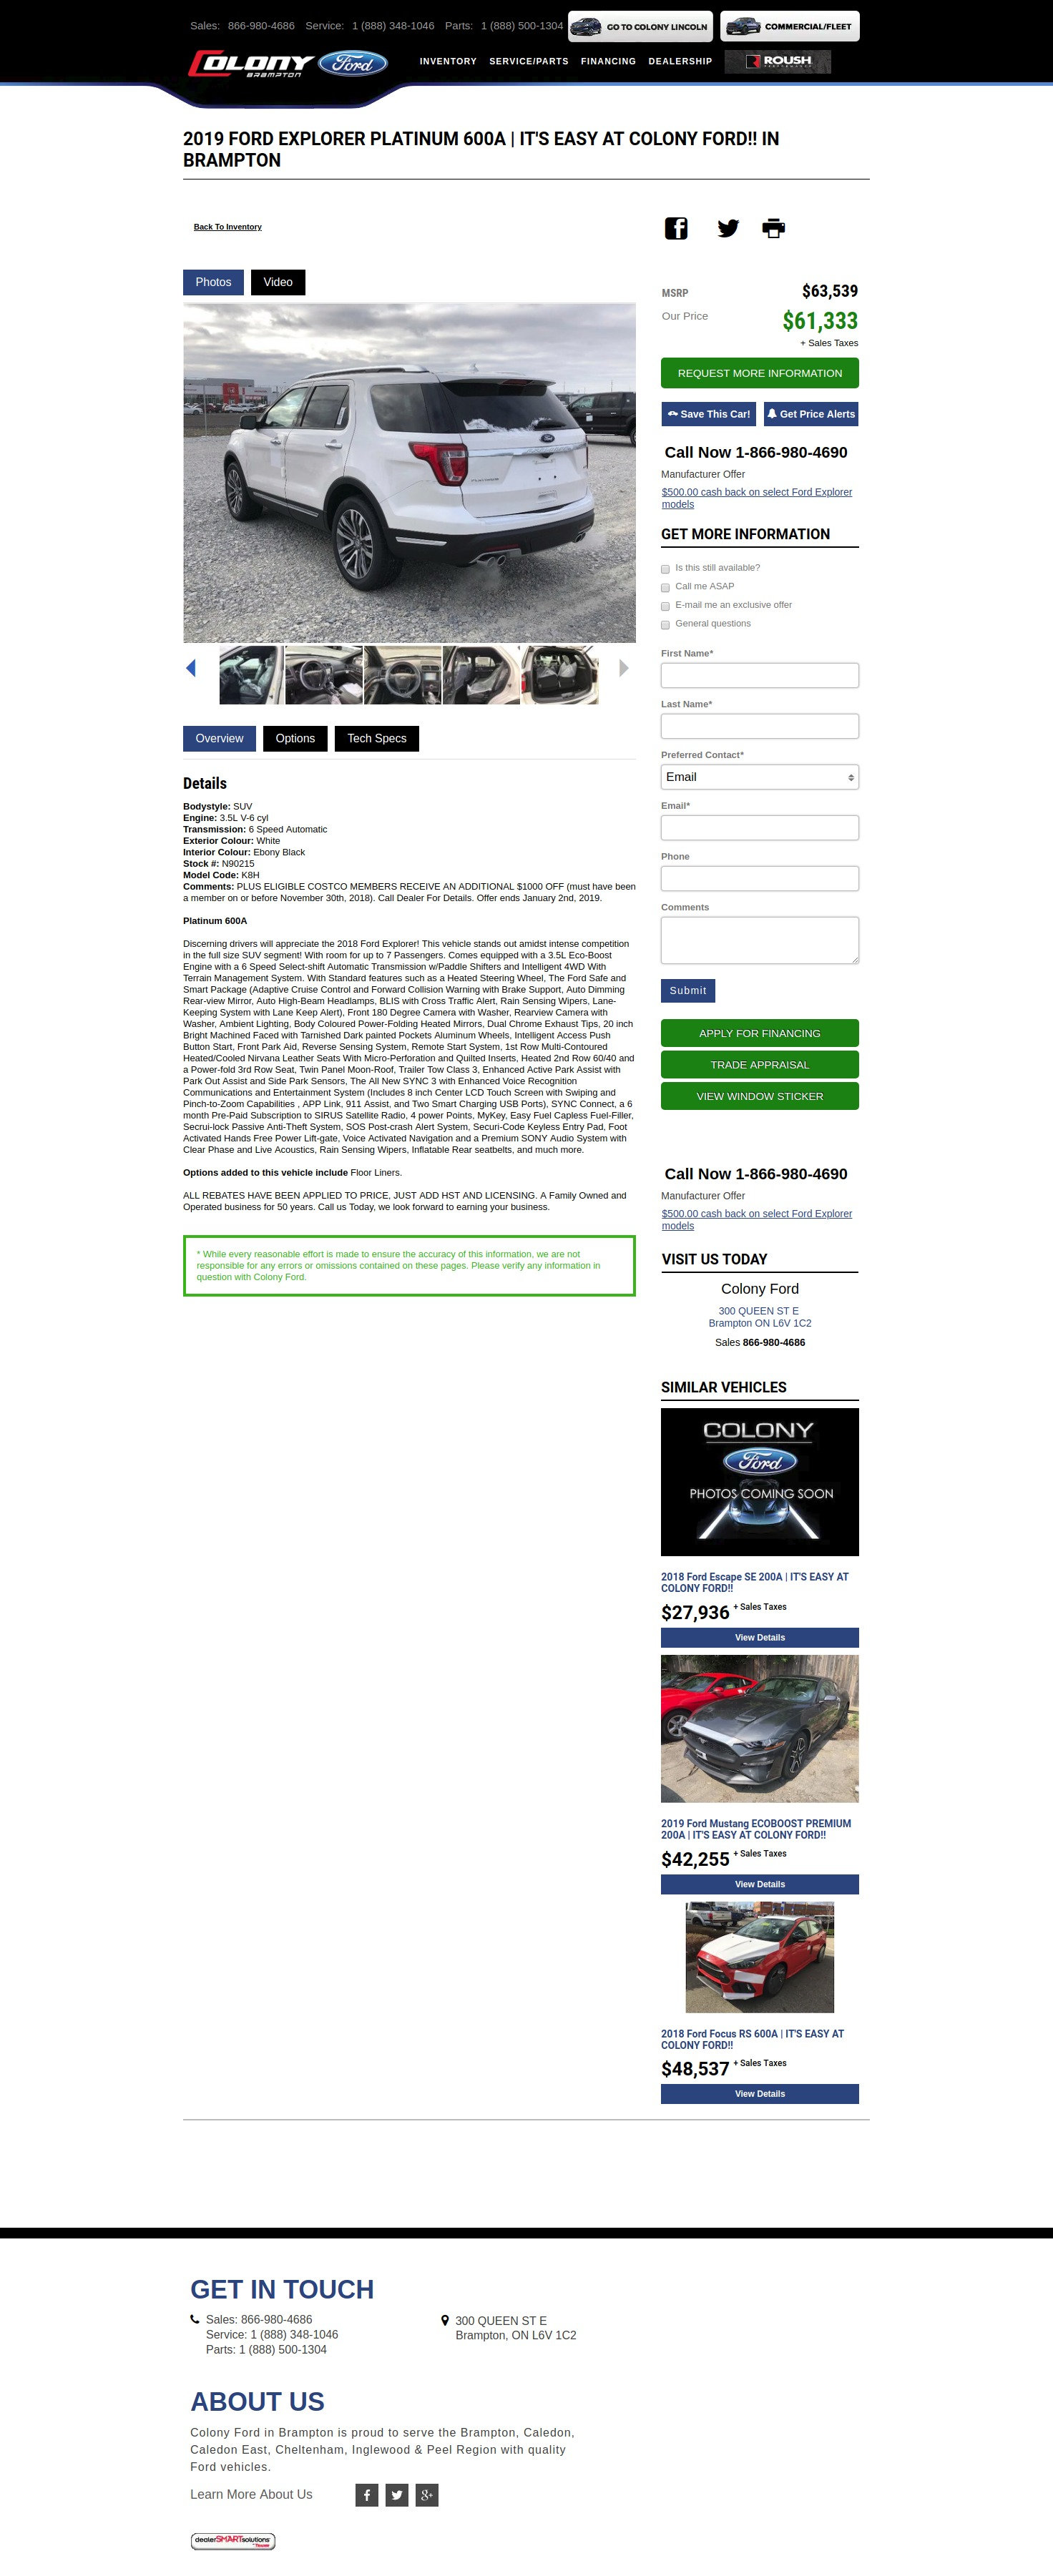car: (618, 659, 631, 678)
